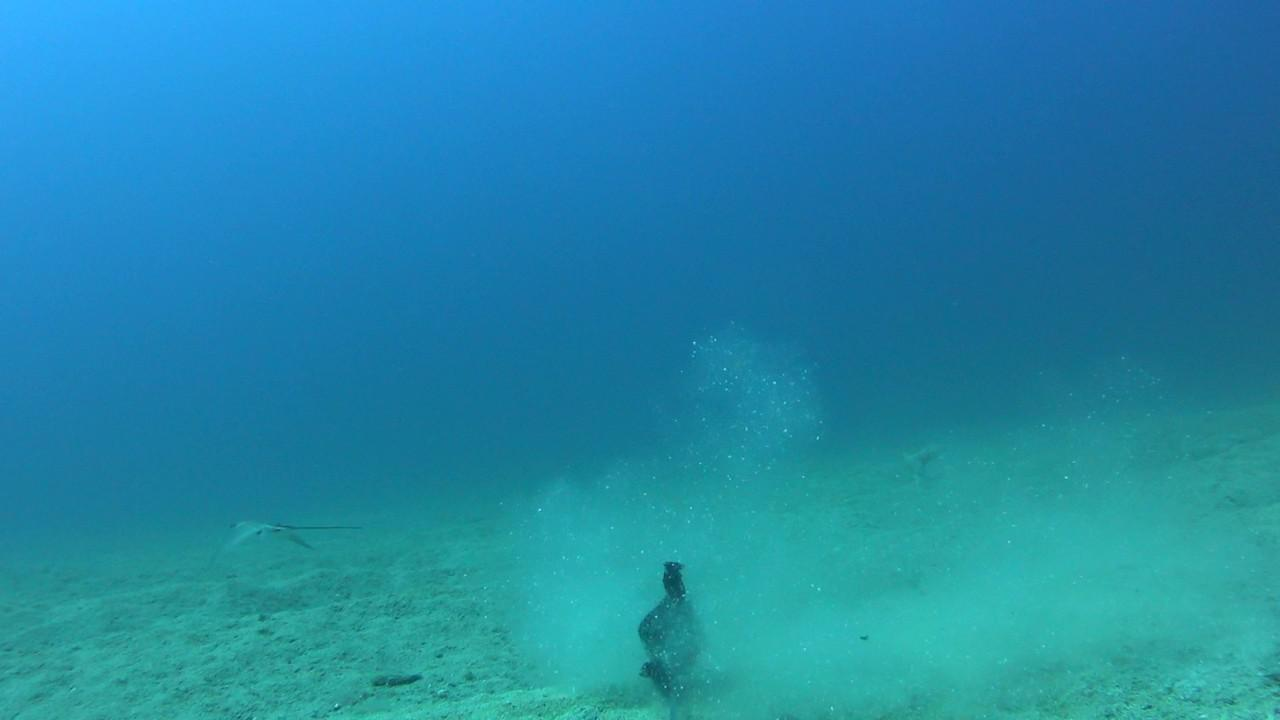myliobatis: (201, 512, 372, 585)
